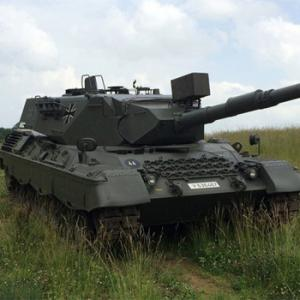Battle Tank: (1, 72, 300, 245)
